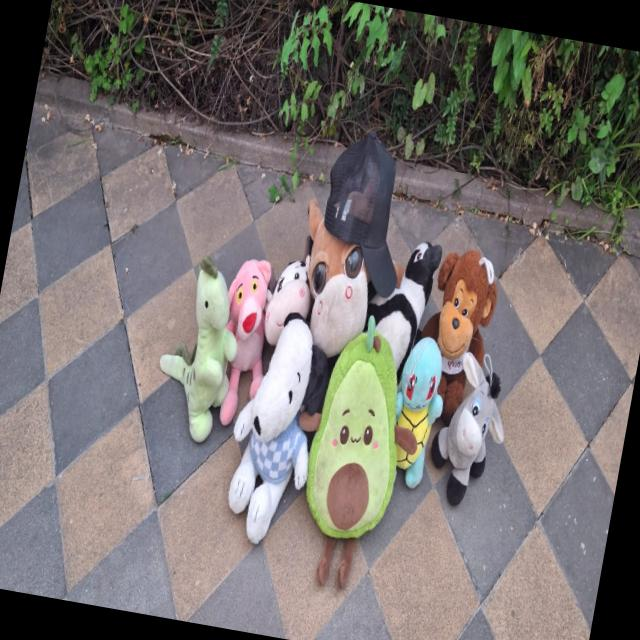Gorra: (303, 130, 422, 312)
